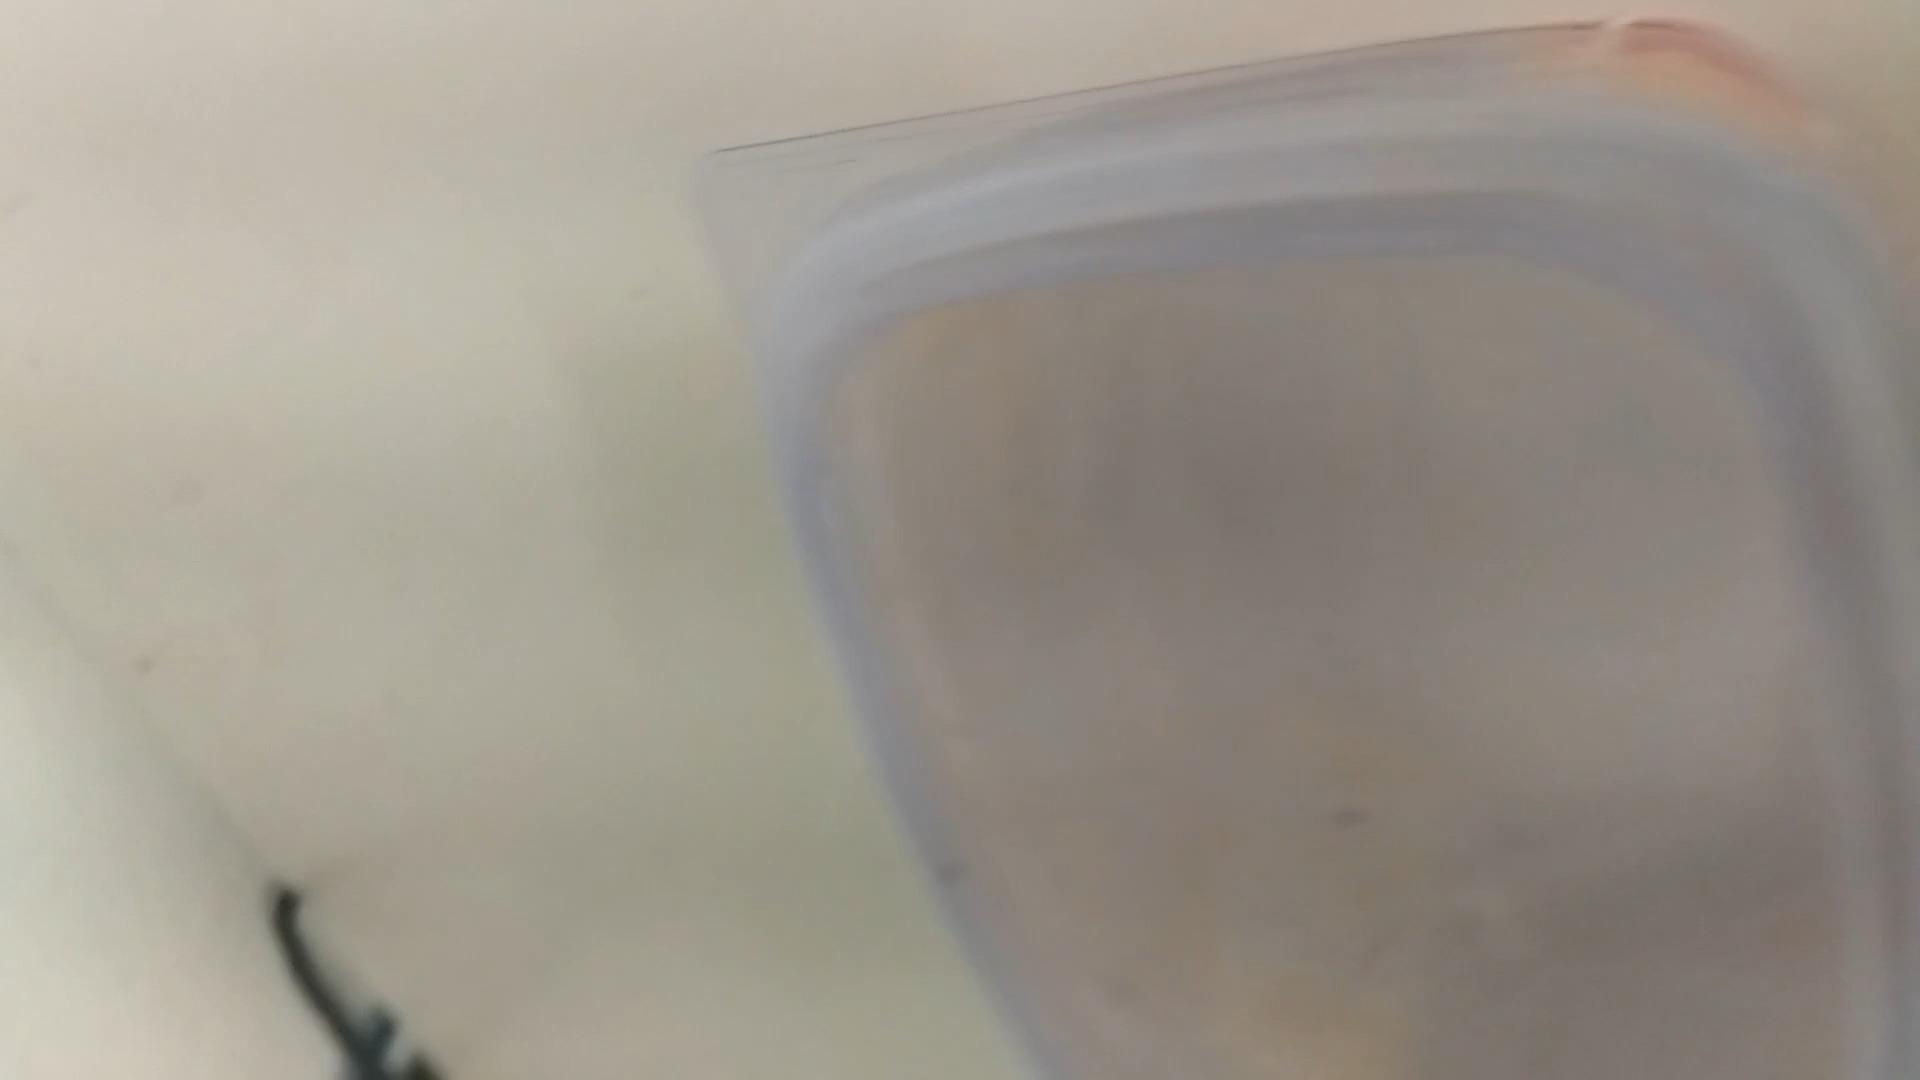butter: (724, 47, 1917, 1080)
